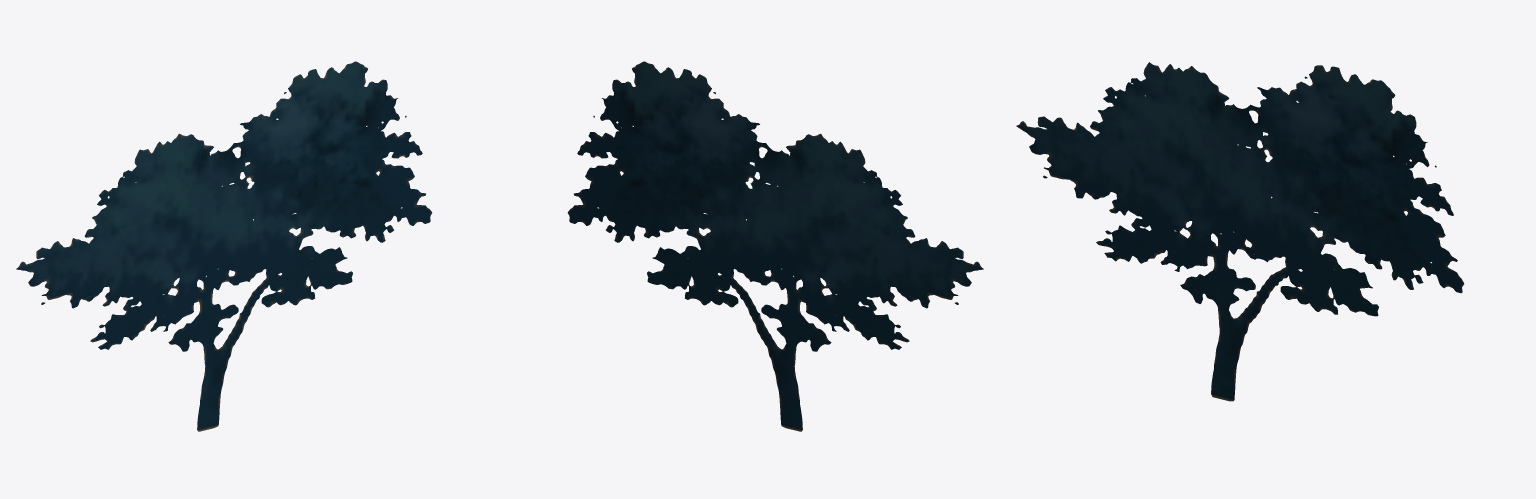
Rendered from HuBian_NightShu8_fbx.FBX.
3 renders of one model, left to right at view 1: azimuth 30°, elevation 25°; view 2: azimuth 150°, elevation 25°; view 3: azimuth 330°, elevation 25°, orthographic. The views are drawn at different scales.
Visible parts, largest first — view 1: Object046; view 2: Object046; view 3: Object046.
Boxes of the visible parts, x1,y1,x2,y2 form: Object046: [16, 61, 432, 431]; Object046: [567, 61, 983, 431]; Object046: [1016, 62, 1464, 401].
Bounding box in the file's own units: 2.41 × 1.91 × 1.04e-06.
Materials: 1 (1 with a texture image).
